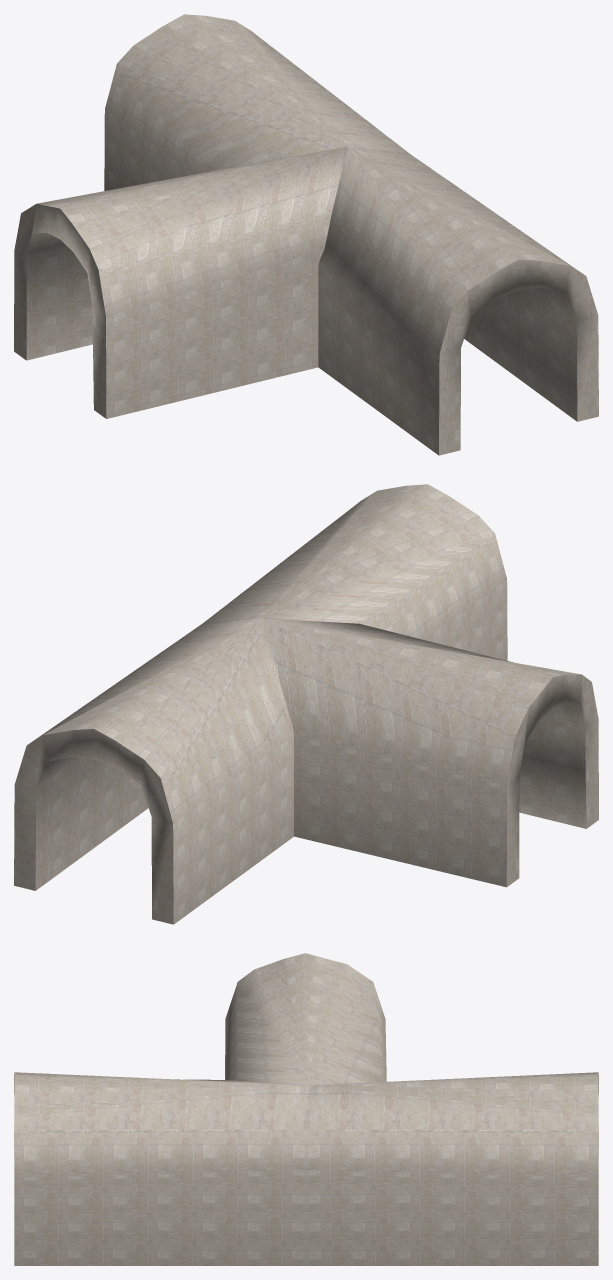
The model's file is tonnel_connector_3.fbx.
The picture shows the model from 3 angles, top to bottom: view 1: azimuth 30°, elevation 25°; view 2: azimuth 150°, elevation 25°; view 3: azimuth 270°, elevation 25°; orthographic projection. The views are drawn at different scales.
Visible parts, largest first — view 1: Cube; view 2: Cube; view 3: Cube.
Boxes of the visible parts, bbox=[...] form: Cube: bbox=[14, 14, 598, 455]; Cube: bbox=[14, 484, 598, 924]; Cube: bbox=[14, 953, 598, 1265].
Size of the model in its own units: 1950 by 885 by 3038.
